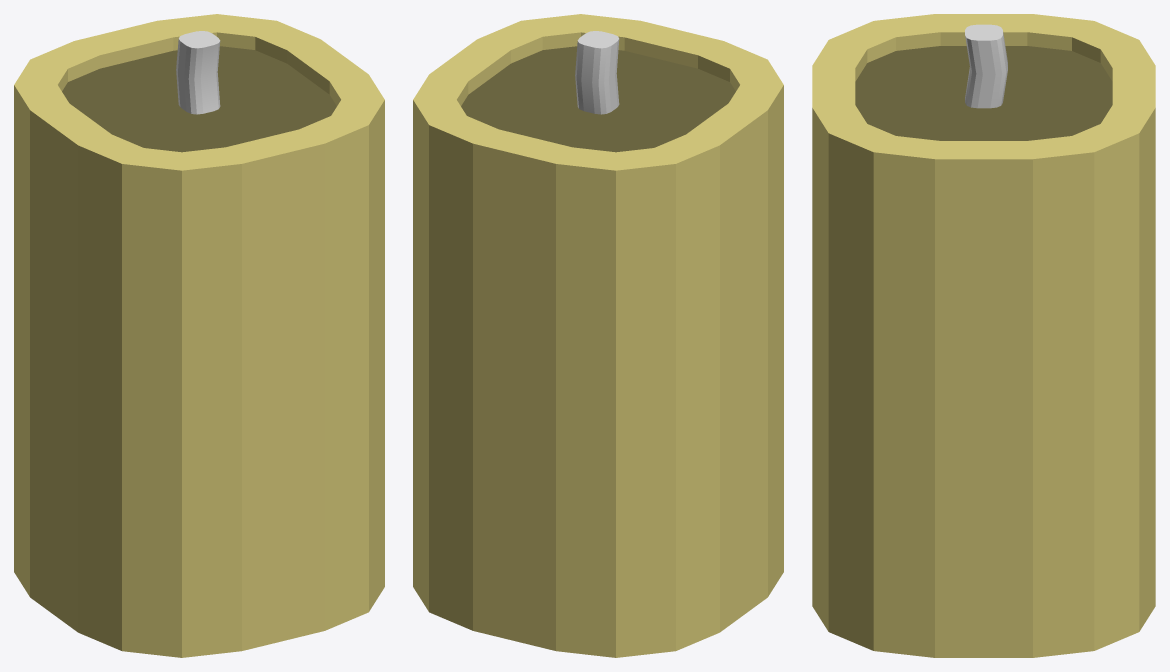
File: Candle.fbx
The picture shows the model from 3 angles, left to right: view 1: azimuth 30°, elevation 25°; view 2: azimuth 150°, elevation 25°; view 3: azimuth 270°, elevation 25°; orthographic projection. The views are drawn at different scales.
Parts seen in each view (by area): view 1: Cube.001; view 2: Cube.001; view 3: Cube.001.
Part boxes in pixels (x1,y1,x2,y2): Cube.001: (14, 14, 384, 657); Cube.001: (413, 14, 783, 657); Cube.001: (812, 14, 1155, 657).
Size of the model in its own units: 91.37 by 162 by 91.37.
